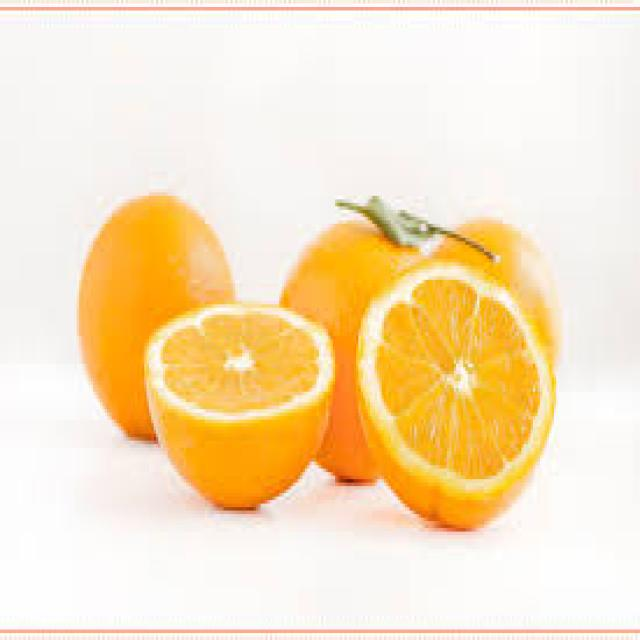orange: (74, 186, 246, 436)
